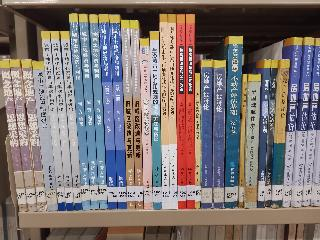book-spine: (39, 30, 66, 212), (7, 59, 37, 212), (50, 30, 75, 211), (0, 59, 29, 214), (59, 30, 83, 212), (69, 13, 91, 211), (280, 37, 304, 207), (291, 37, 315, 207), (33, 61, 59, 212), (79, 14, 99, 210), (21, 59, 46, 212), (109, 14, 128, 210), (98, 14, 117, 209), (87, 15, 106, 209), (119, 20, 136, 211), (226, 37, 244, 210), (148, 30, 165, 209), (302, 38, 320, 207), (271, 59, 290, 208), (244, 76, 263, 209), (130, 20, 143, 209), (139, 38, 153, 211), (264, 59, 279, 209), (212, 60, 227, 209), (160, 14, 171, 211), (167, 14, 178, 211), (176, 14, 187, 208), (200, 60, 214, 211), (258, 60, 272, 209), (186, 15, 196, 209), (238, 73, 249, 208), (193, 72, 202, 209)
